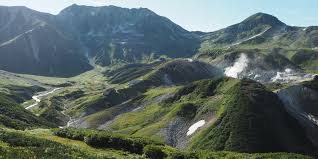mountain: (4, 6, 315, 156)
